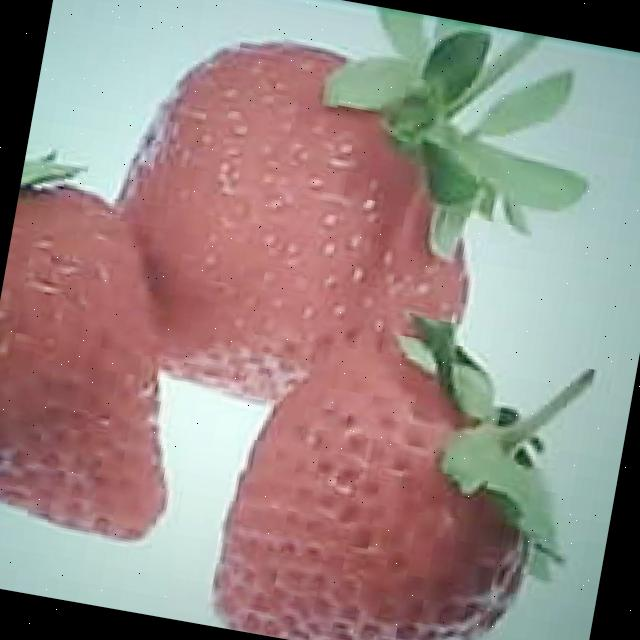strawberry: (86, 11, 502, 430), (205, 325, 556, 640), (0, 161, 217, 548)
